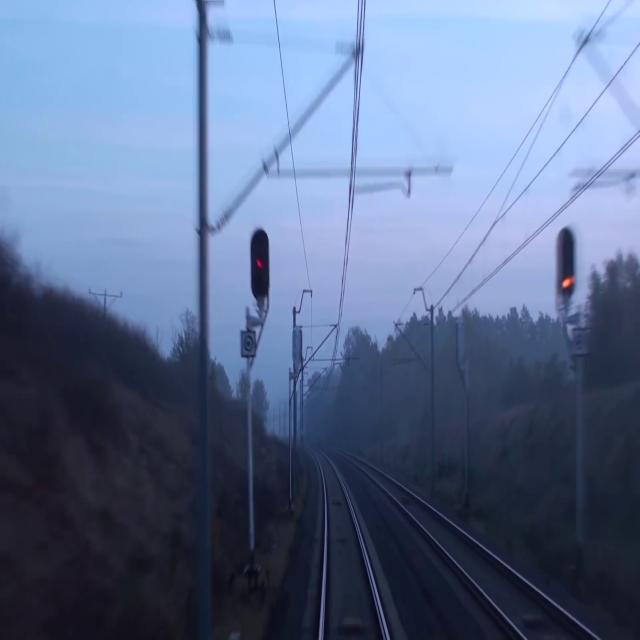rail-track: (377, 475, 590, 639), (321, 457, 384, 639)
